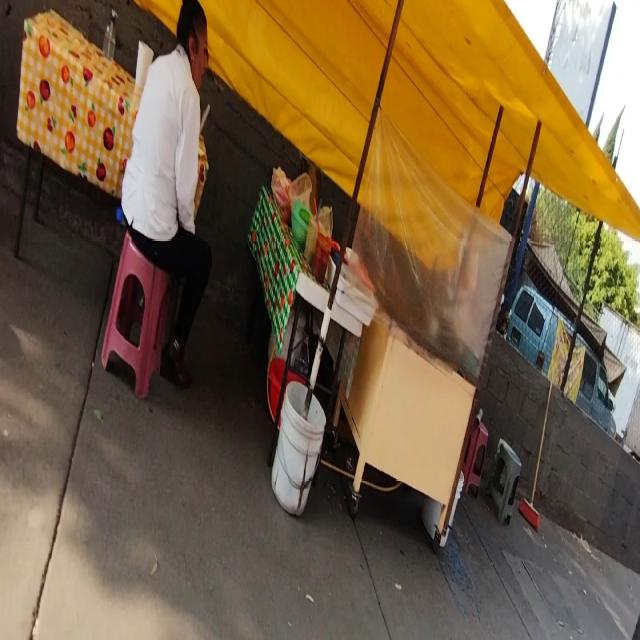adult: (118, 0, 213, 386)
